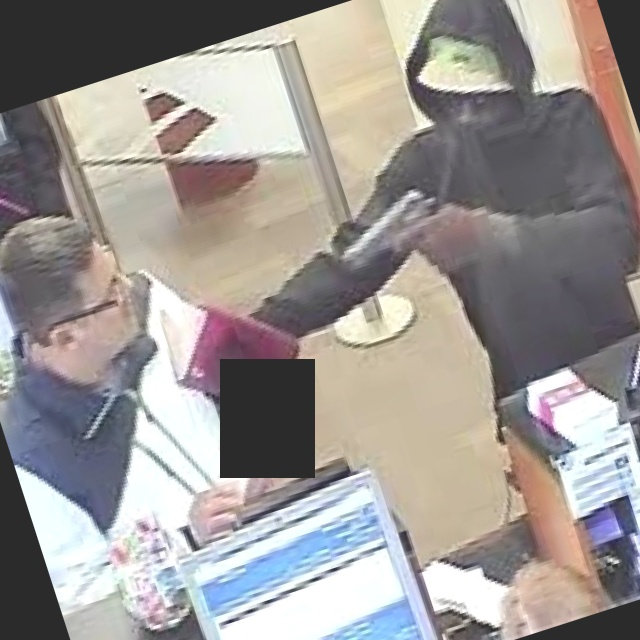gun: (317, 161, 482, 316)
